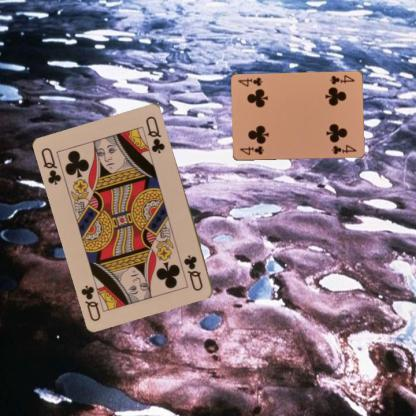4c: (237, 143, 265, 157), (327, 73, 355, 85)
Qc: (39, 145, 63, 187), (182, 252, 204, 292)
